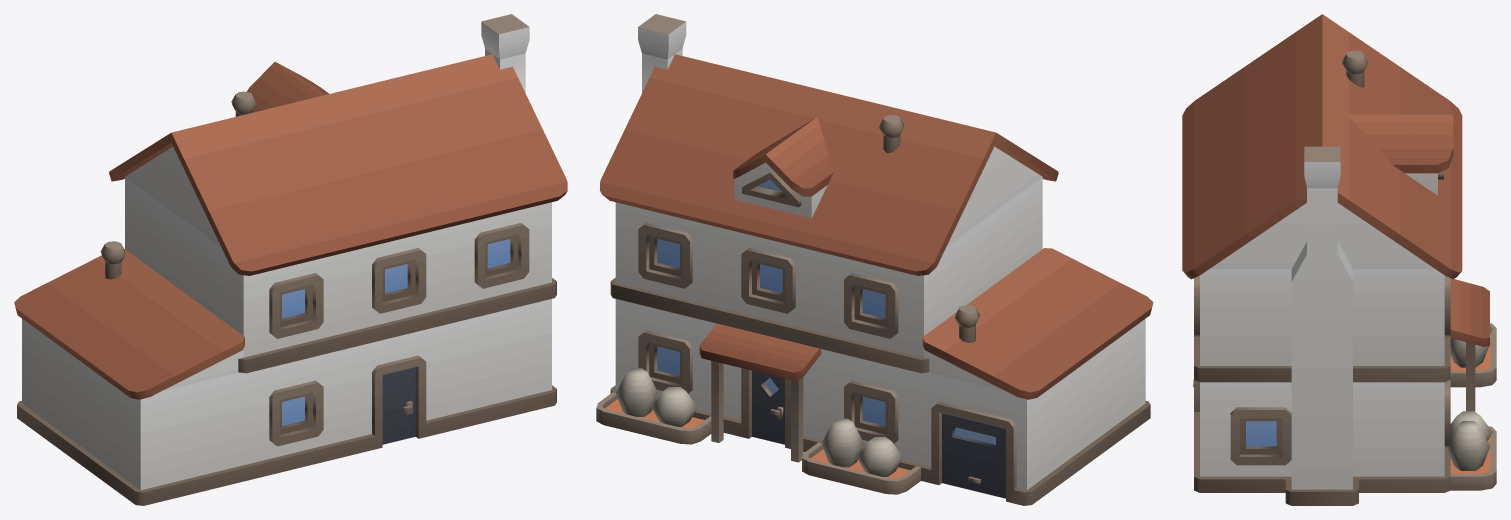
File: sub-building-type-d.glb
3 views of the same model, side by side, from view 1: azimuth 30°, elevation 25°; view 2: azimuth 150°, elevation 25°; view 3: azimuth 270°, elevation 25° (orthographic). The views are drawn at different scales.
Parts seen in each view (by area): view 1: building-type-d; view 2: building-type-d; view 3: building-type-d.
Boxes of the visible parts, x1,y1,x2,y2 form: building-type-d: [14, 14, 567, 505]; building-type-d: [596, 14, 1153, 505]; building-type-d: [1182, 14, 1496, 505].
Bounding box in the file's own units: 1.76 × 1.24 × 1.03.
Materials: 1 (1 with a texture image).
